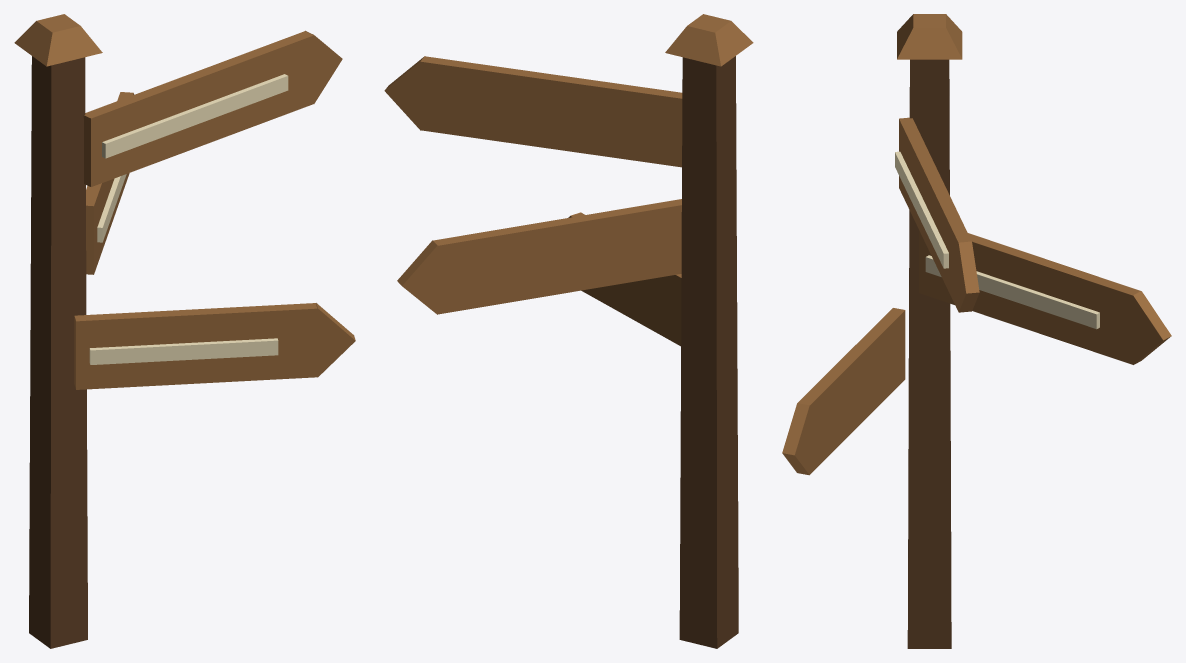
Rendered from signpost_2.glb.
The picture shows the model from 3 angles, left to right: view 1: azimuth 30°, elevation 25°; view 2: azimuth 150°, elevation 25°; view 3: azimuth 270°, elevation 25°; orthographic projection.
Visible parts, largest first — view 1: signpost_2; view 2: signpost_2; view 3: signpost_2.
Part boxes in pixels (left/top/right/bottom): signpost_2: left=14, top=14, right=355, bottom=648; signpost_2: left=384, top=14, right=753, bottom=648; signpost_2: left=782, top=14, right=1171, bottom=648.
Size of what is drawn, in the model's own units: 1.41 by 2.5 by 1.43.
